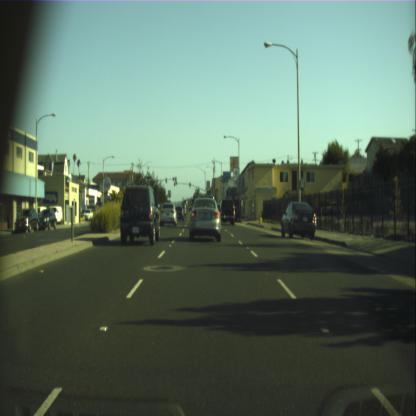Red: (174, 180, 176, 186)
